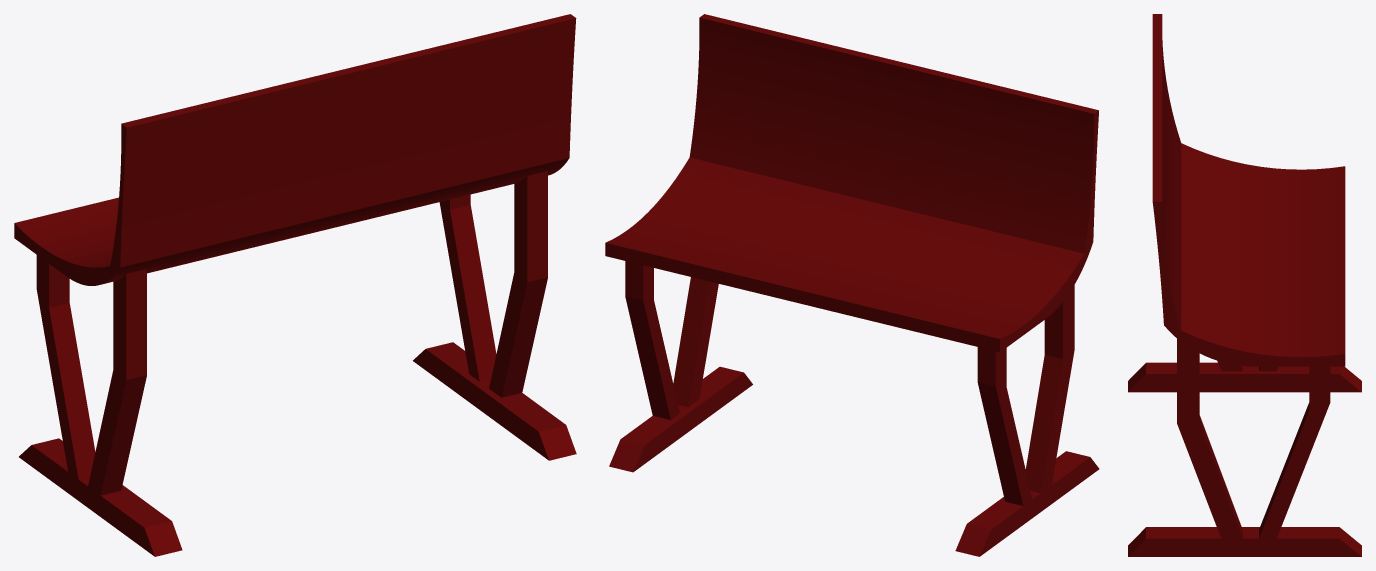
3 views of the same model, side by side, from view 1: azimuth 30°, elevation 25°; view 2: azimuth 150°, elevation 25°; view 3: azimuth 270°, elevation 25° (orthographic). The views are drawn at different scales.
Parts seen in each view (by area): view 1: mesh4_mesh4-geometry, mesh1_mesh1-geometry; view 2: mesh4_mesh4-geometry, mesh1_mesh1-geometry; view 3: mesh1_mesh1-geometry, mesh4_mesh4-geometry.
Part boxes in pixels (left/top/right/bottom): mesh4_mesh4-geometry: left=14, top=69, right=351, bottom=556; mesh1_mesh1-geometry: left=326, top=14, right=576, bottom=460; mesh4_mesh4-geometry: left=802, top=62, right=1099, bottom=556; mesh1_mesh1-geometry: left=605, top=14, right=901, bottom=472; mesh1_mesh1-geometry: left=1128, top=107, right=1361, bottom=556; mesh4_mesh4-geometry: left=1128, top=14, right=1361, bottom=392.
Size of the model in its own units: 0.6928 by 0.622 by 0.3649.
